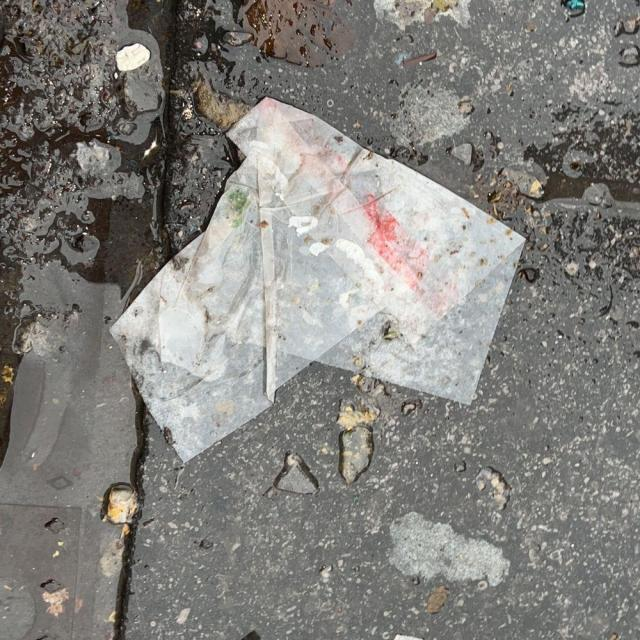Paper: (107, 93, 529, 468)
